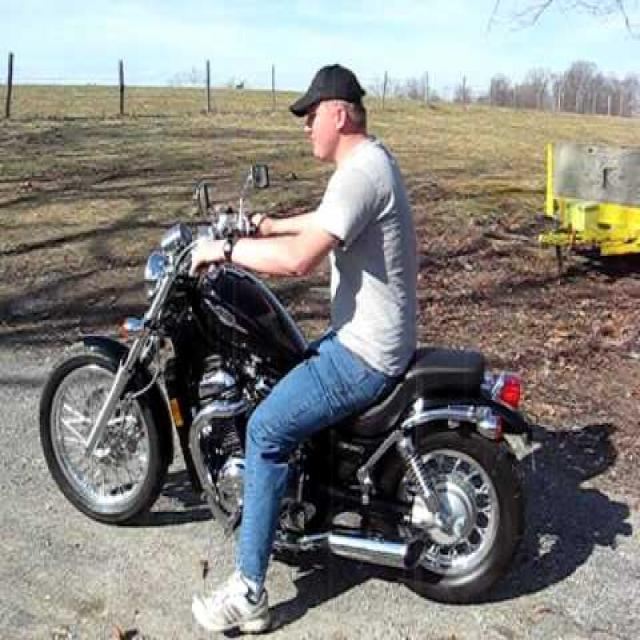Not Wearing Helmet: (269, 66, 428, 265)
